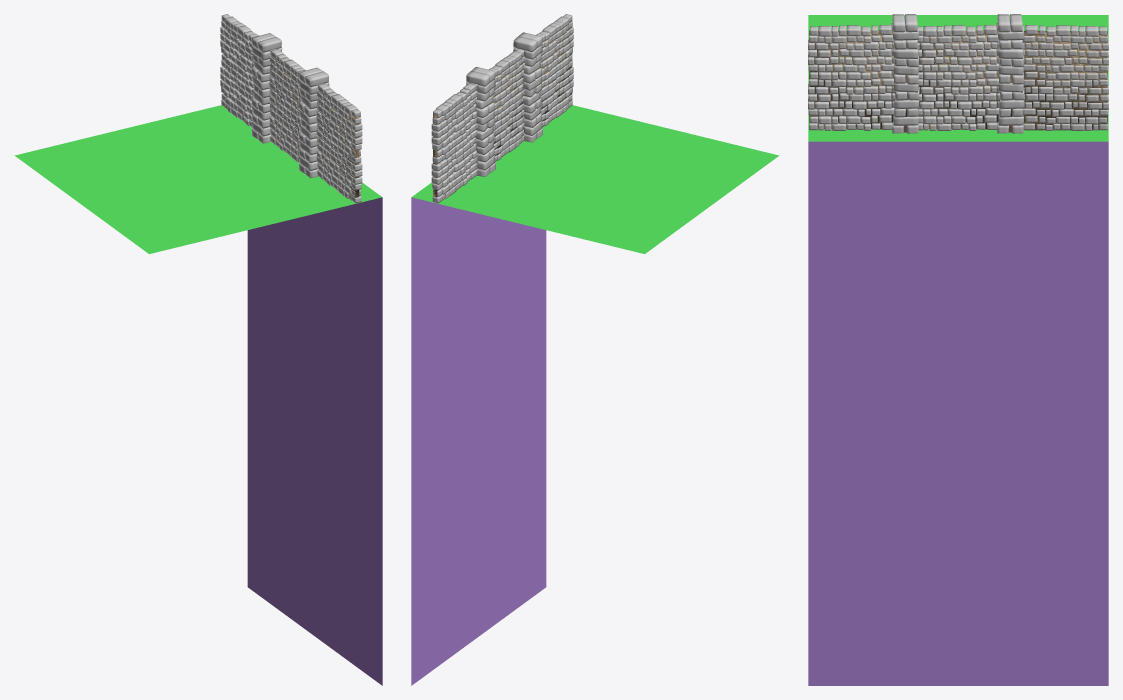
File: Wall_2.fbx
3 views of the same model, side by side, from view 1: azimuth 30°, elevation 25°; view 2: azimuth 150°, elevation 25°; view 3: azimuth 270°, elevation 25° (orthographic). The views are drawn at different scales.
Visible parts, largest first — view 1: Wall_2; view 2: Wall_2; view 3: Wall_2.
Part boxes in pixels (box(x1,y1,x2,y2)): Wall_2: box(14, 14, 382, 685); Wall_2: box(411, 14, 779, 685); Wall_2: box(808, 14, 1108, 685).
Size of the model in its own units: 400 by 961 by 401.
